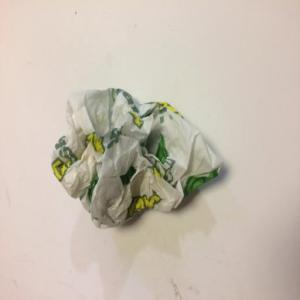Trash: (51, 88, 225, 229)
